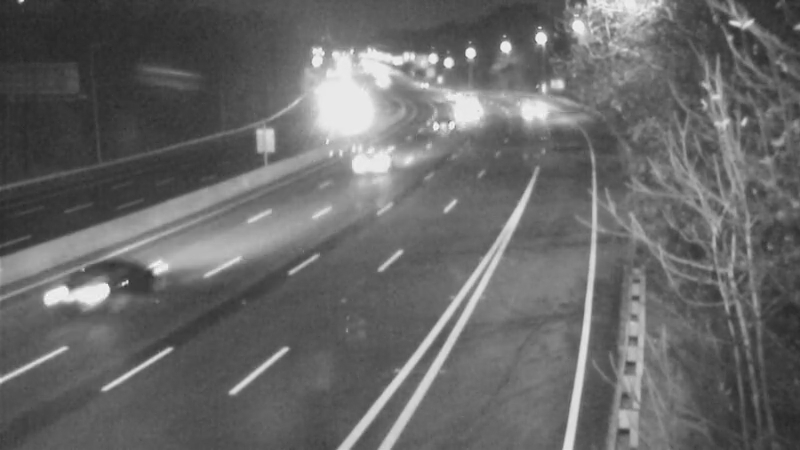vehicle: (335, 117, 415, 197), (38, 250, 118, 330), (501, 79, 551, 129), (444, 73, 494, 123), (444, 87, 494, 137), (414, 96, 464, 146)
